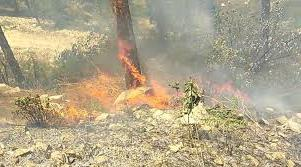fire: (81, 50, 178, 114)
